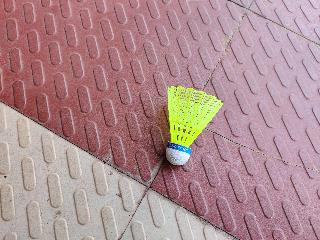shuttlecock: (165, 87, 223, 166)
